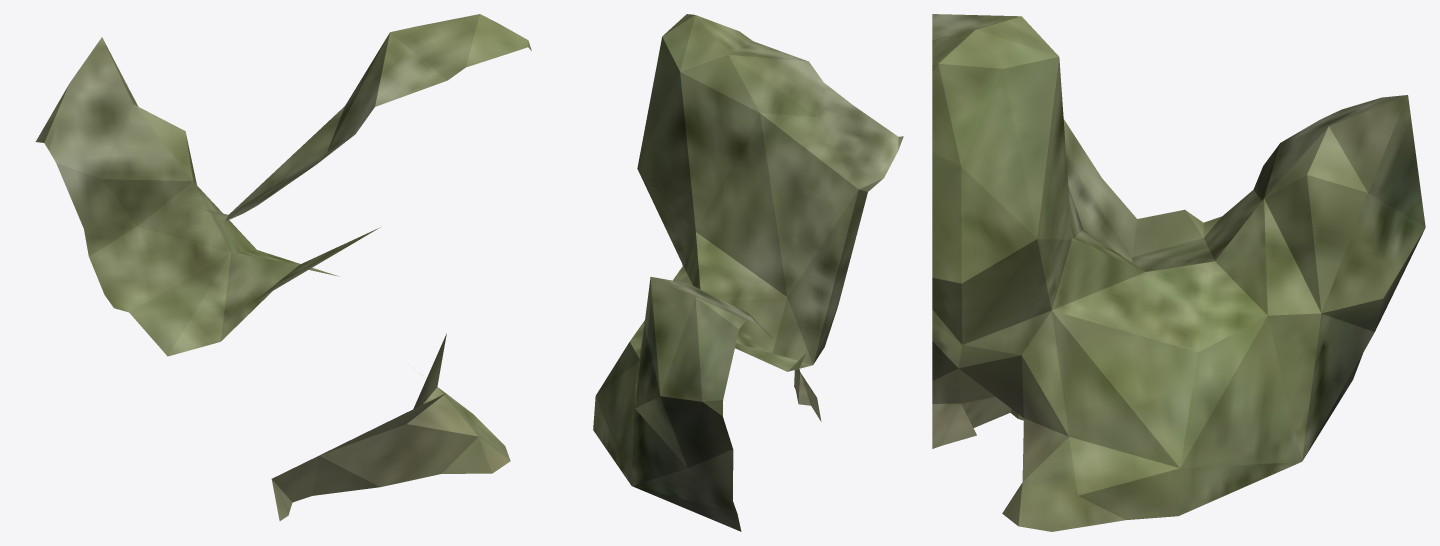
3 views of the same model, side by side, from view 1: azimuth 30°, elevation 25°; view 2: azimuth 150°, elevation 25°; view 3: azimuth 270°, elevation 25° (orthographic). The views are drawn at different scales.
Bounding box in the file's own units: 0.9389 × 1.34 × 1.27.
1 material, 1 textured.
